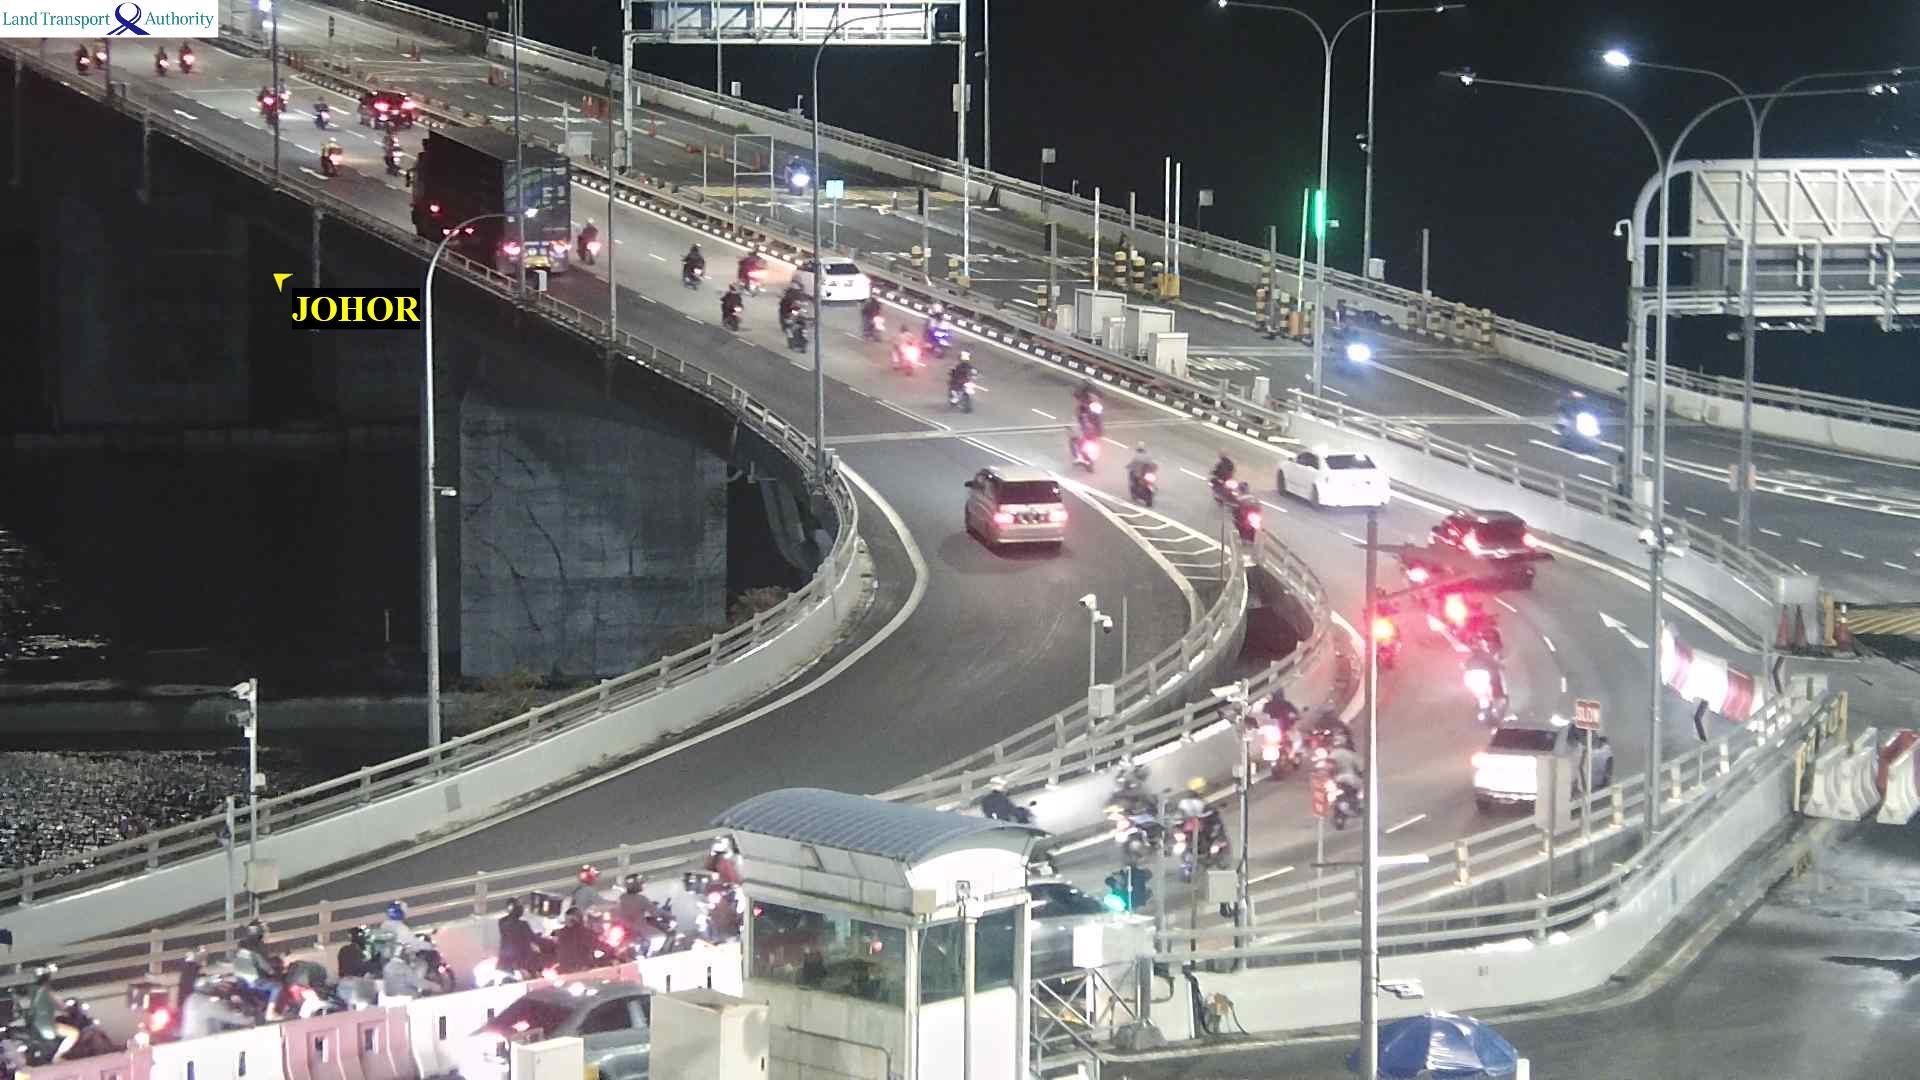vehicle-secondlink-johor: (425, 140, 567, 272), (1470, 722, 1614, 805), (0, 970, 103, 1065), (1429, 506, 1540, 588), (217, 935, 321, 1019), (971, 469, 1075, 551), (1278, 451, 1394, 510), (212, 924, 290, 1000), (139, 950, 206, 1036), (23, 1000, 115, 1062), (344, 913, 413, 979), (1175, 782, 1226, 861), (135, 971, 176, 1041), (559, 864, 612, 912), (1443, 577, 1478, 646), (1328, 768, 1368, 828), (365, 88, 418, 131), (1263, 693, 1296, 756), (943, 357, 979, 411), (695, 844, 735, 892), (1129, 449, 1163, 505), (1211, 453, 1243, 506), (1070, 413, 1097, 473), (1077, 387, 1101, 442), (315, 144, 345, 180), (721, 285, 746, 320), (263, 88, 289, 121), (681, 249, 703, 284), (739, 251, 761, 284), (77, 48, 103, 73), (315, 102, 334, 131)
vehicle-secondlink-singapore: (781, 148, 820, 206), (824, 251, 874, 296), (1559, 389, 1601, 436), (799, 263, 833, 282)
